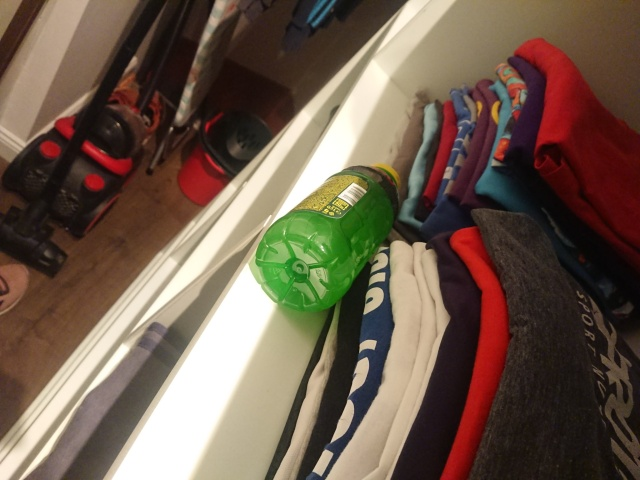Vindi Iso Sport Lemon-Grapefruit 500mL: (251, 160, 405, 317)
